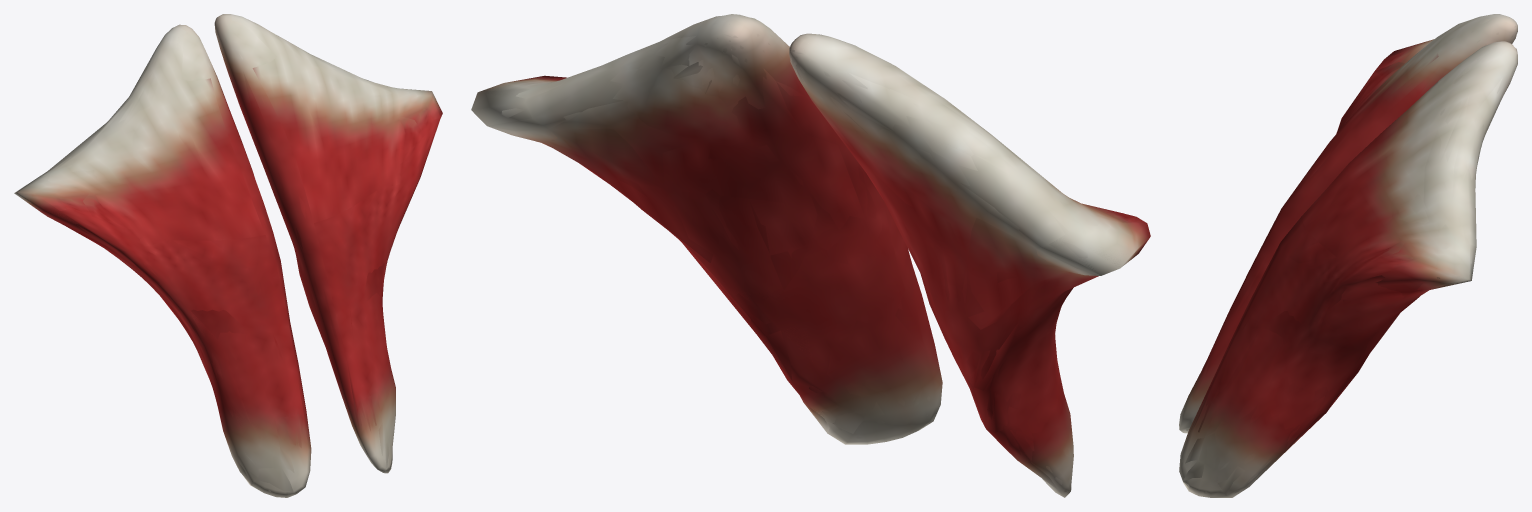
The model's file is Frontalis.fbx.
3 views of the same model, side by side, from view 1: azimuth 30°, elevation 25°; view 2: azimuth 150°, elevation 25°; view 3: azimuth 270°, elevation 25° (orthographic). The views are drawn at different scales.
Visible parts, largest first — view 1: Frontalis, Frontalis low, Frontalis high; view 2: Frontalis, Frontalis low, Frontalis high; view 3: Frontalis, Frontalis high, Frontalis low.
Boxes of the visible parts, bbox=[...] form: Frontalis: bbox=[14, 14, 442, 497]; Frontalis low: bbox=[18, 17, 440, 496]; Frontalis high: bbox=[30, 20, 427, 494]; Frontalis: bbox=[471, 14, 1150, 497]; Frontalis low: bbox=[473, 15, 1146, 495]; Frontalis high: bbox=[501, 16, 1136, 492]; Frontalis: bbox=[1179, 14, 1517, 497]; Frontalis high: bbox=[1182, 16, 1517, 493]; Frontalis low: bbox=[1181, 17, 1516, 495].
Size of the model in its own units: 3.6 by 3.06 by 2.17.
